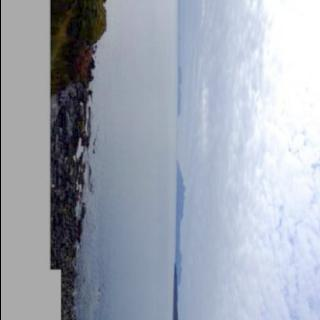Altocumulus: (180, 0, 320, 320)
